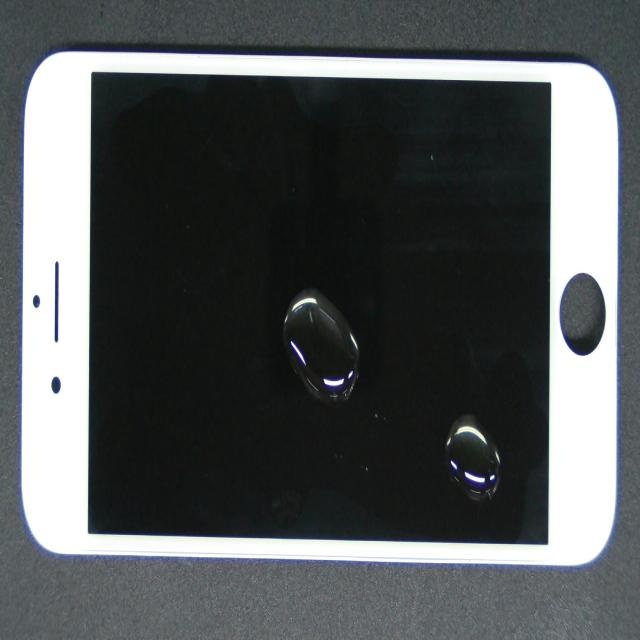oil: (271, 257, 640, 640), (164, 240, 529, 590)
